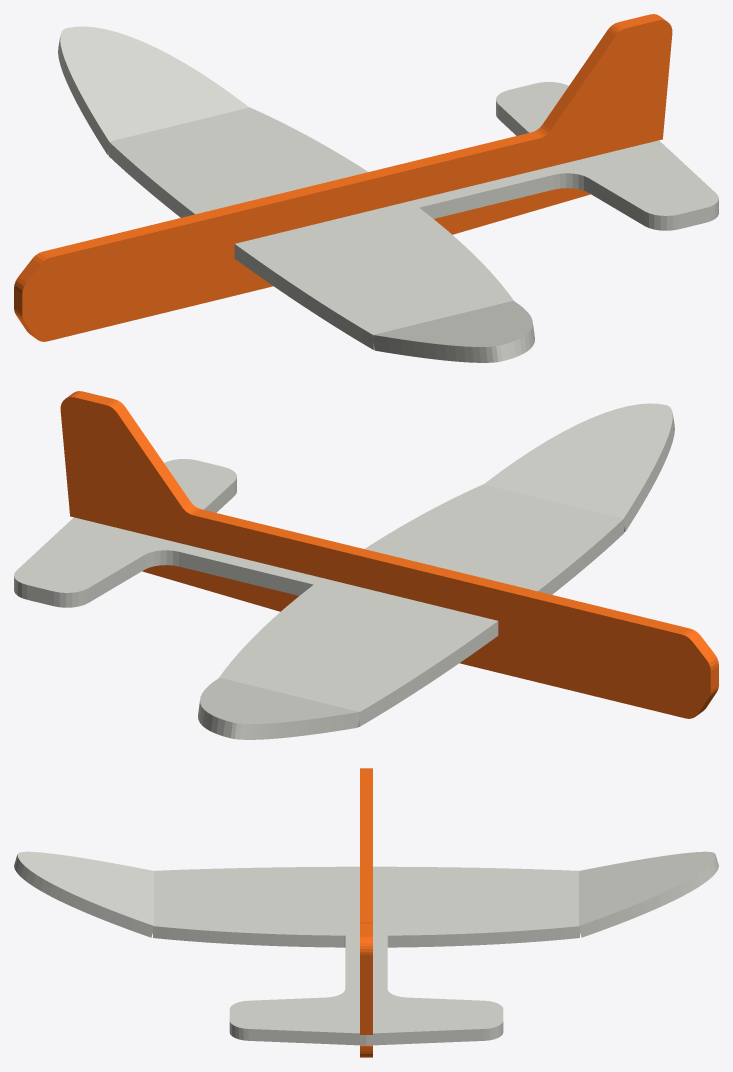
3 renders of one model, top to bottom at view 1: azimuth 30°, elevation 25°; view 2: azimuth 150°, elevation 25°; view 3: azimuth 270°, elevation 25°, orthographic. The views are drawn at different scales.
Visible parts, largest first — view 1: H, V; view 2: H, V; view 3: H, V.
Boxes of the visible parts, x1=… form: H: x1=58, y1=26, x2=718, y2=362; V: x1=14, y1=14, x2=672, y2=341; H: x1=14, y1=403, x2=674, y2=739; V: x1=60, y1=391, x2=718, y2=718; H: x1=14, y1=851, x2=718, y2=1045; V: x1=360, y1=768, x2=372, y2=1057.
Size of the model in its own units: 0.2295 by 0.058 by 0.2676.
